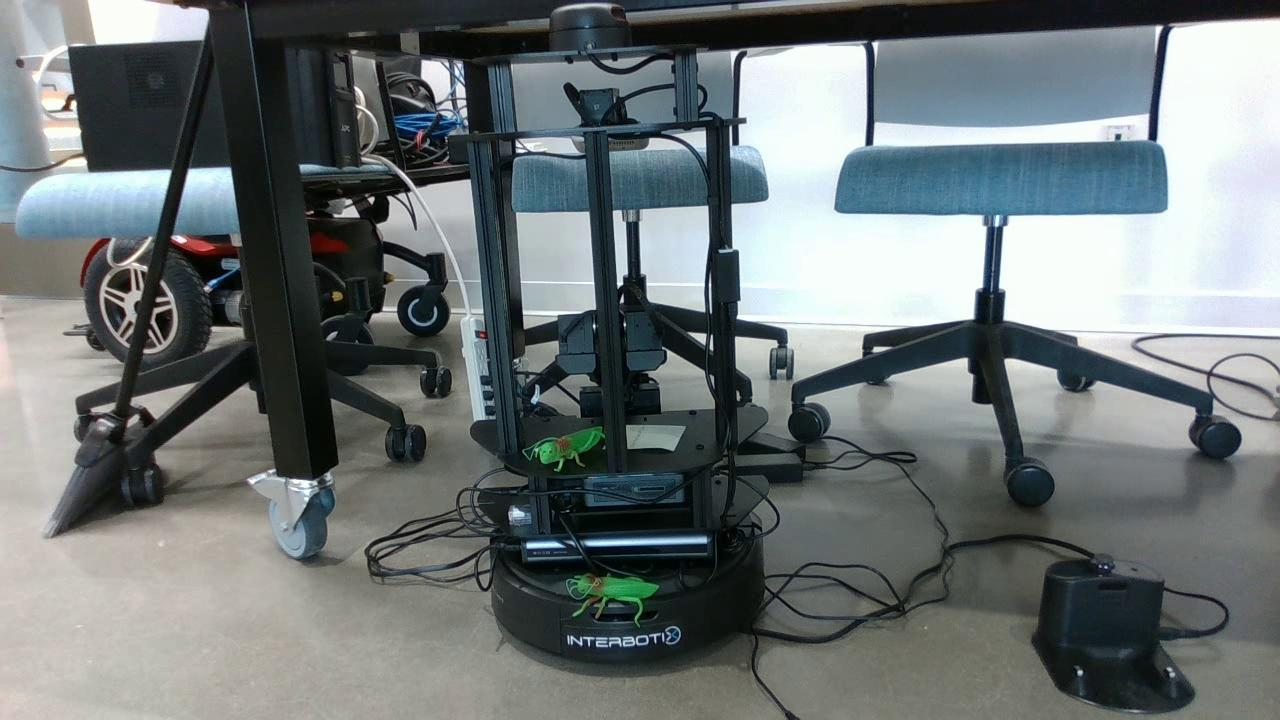grasshopper: (578, 573, 659, 623), (536, 426, 607, 473)
